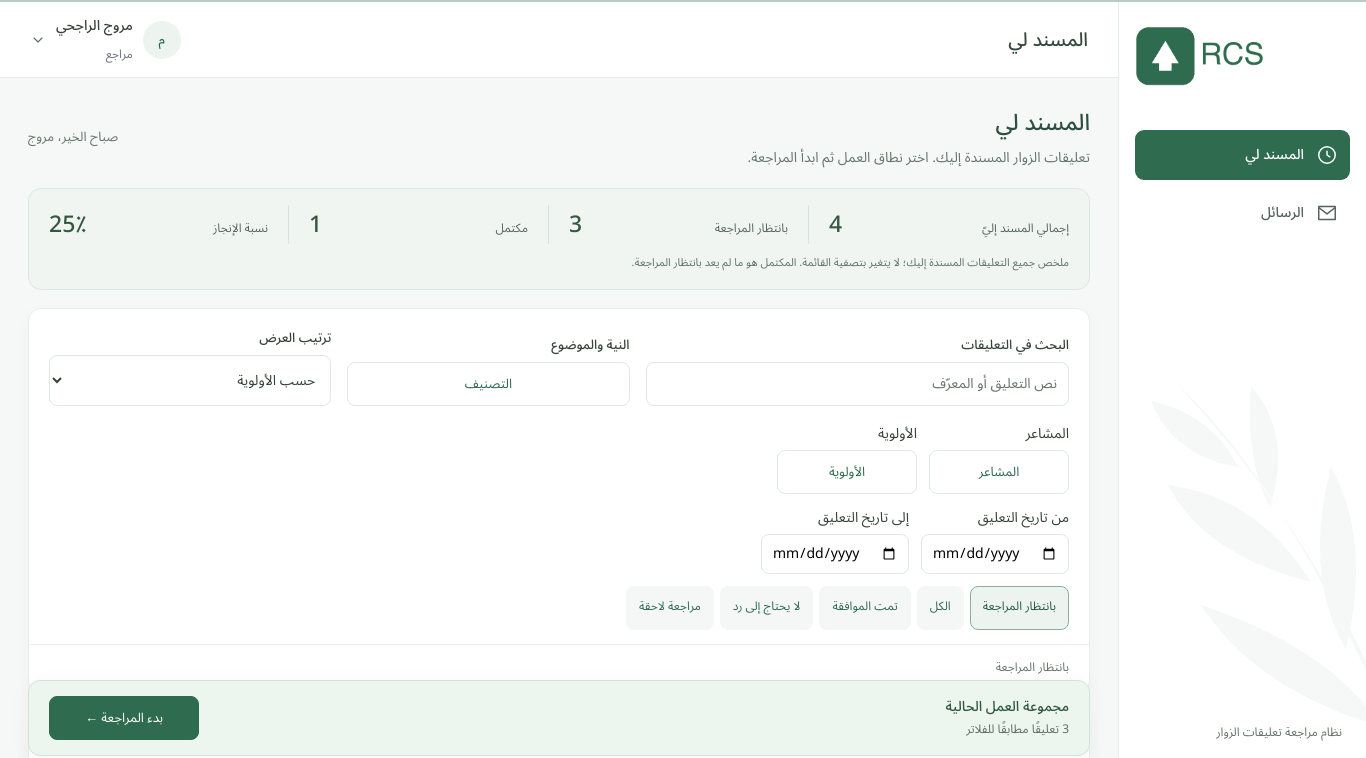
Test: Reviewer UI › loads the reviewer page, queue, and suggested response
What coordinates should you click on to do the following:
click the button "بدء المراجعة ←"
I would click on:
 (124, 718)
Its box is [49,696,199,740].
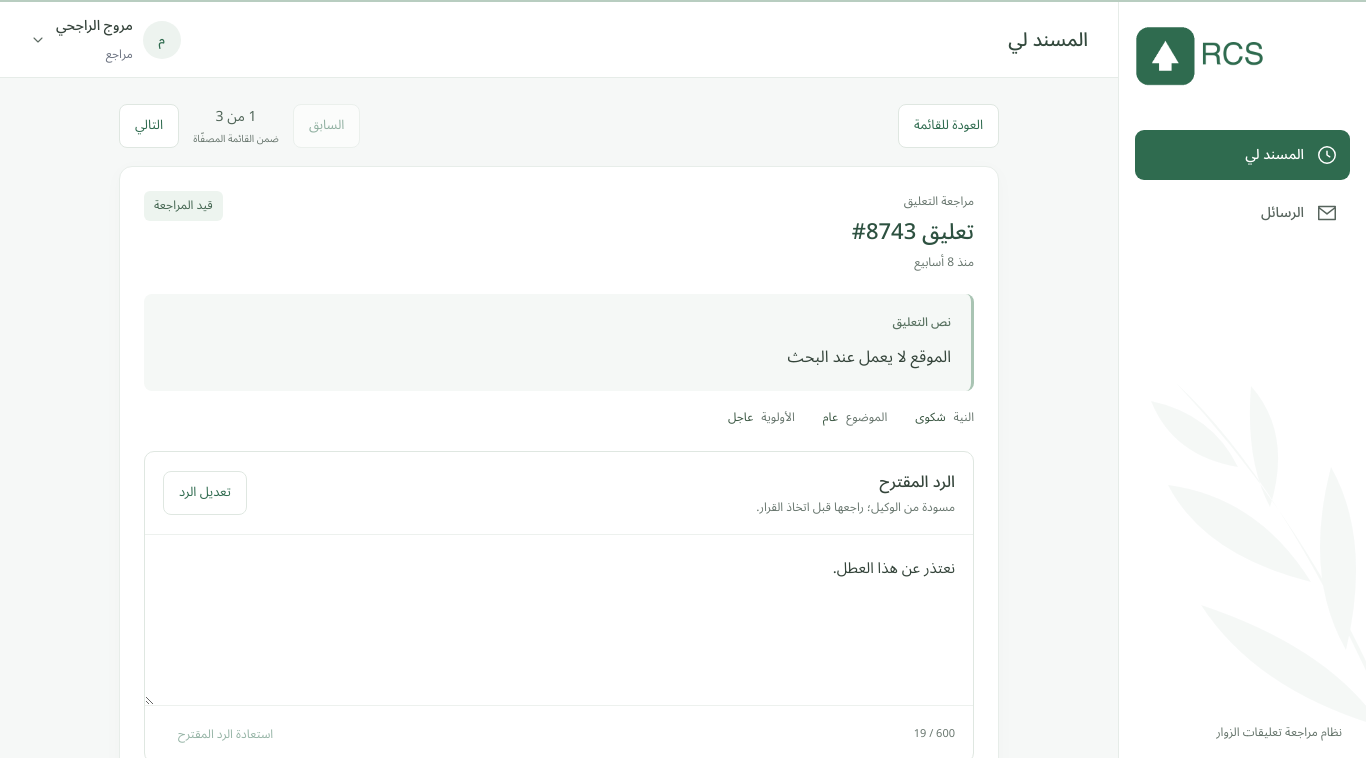
Expected: the text box named "الرد المقترح" is shown, [145,535,973,705]
Expected: the heading "نص التعليق" is shown, [892,310,951,335]
